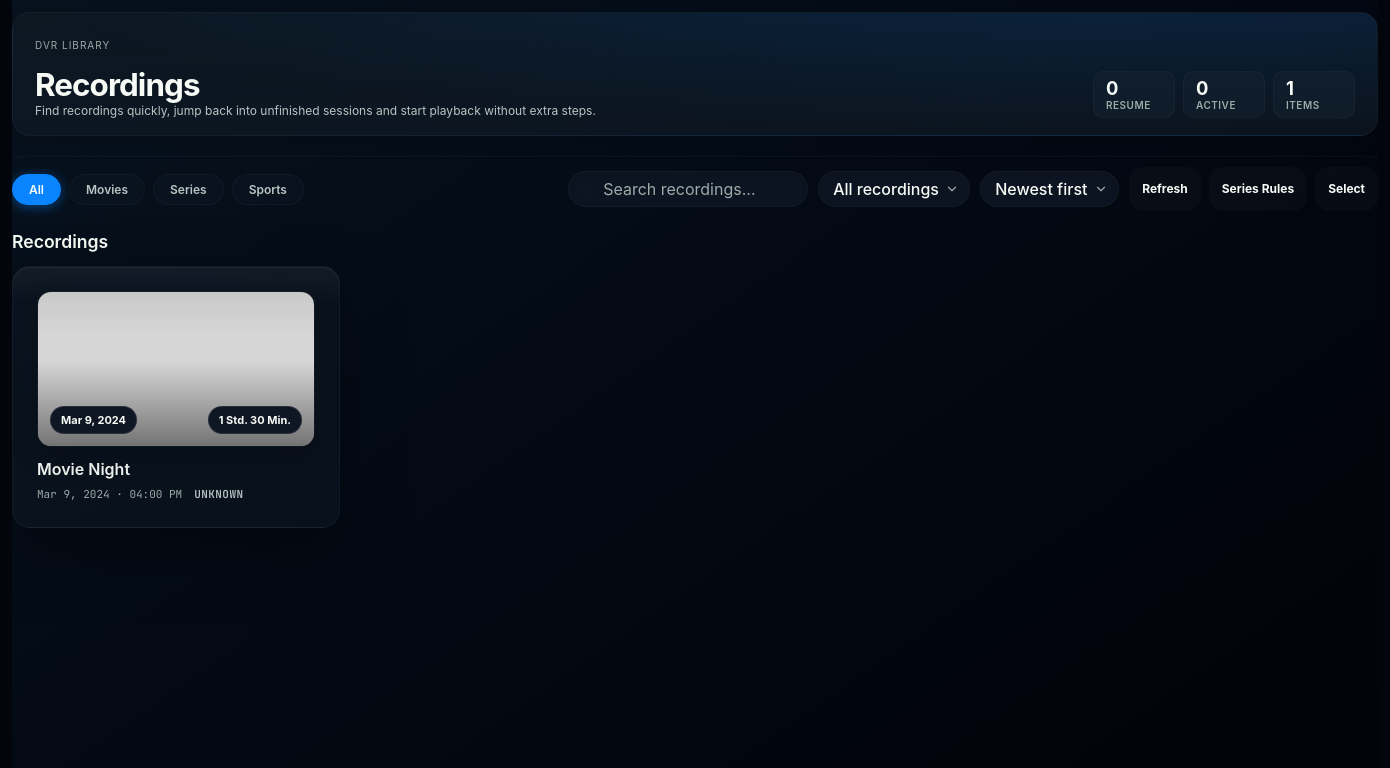
it: RecordingsList › bulk deletes selected recordings and refreshes the listing
The image size is (1390, 768).
Expected: the text "Movie Night" is shown, [37,460,130,480]
Click the button titled "Selection Mode": x=1347, y=189 [1315,167,1378,211]
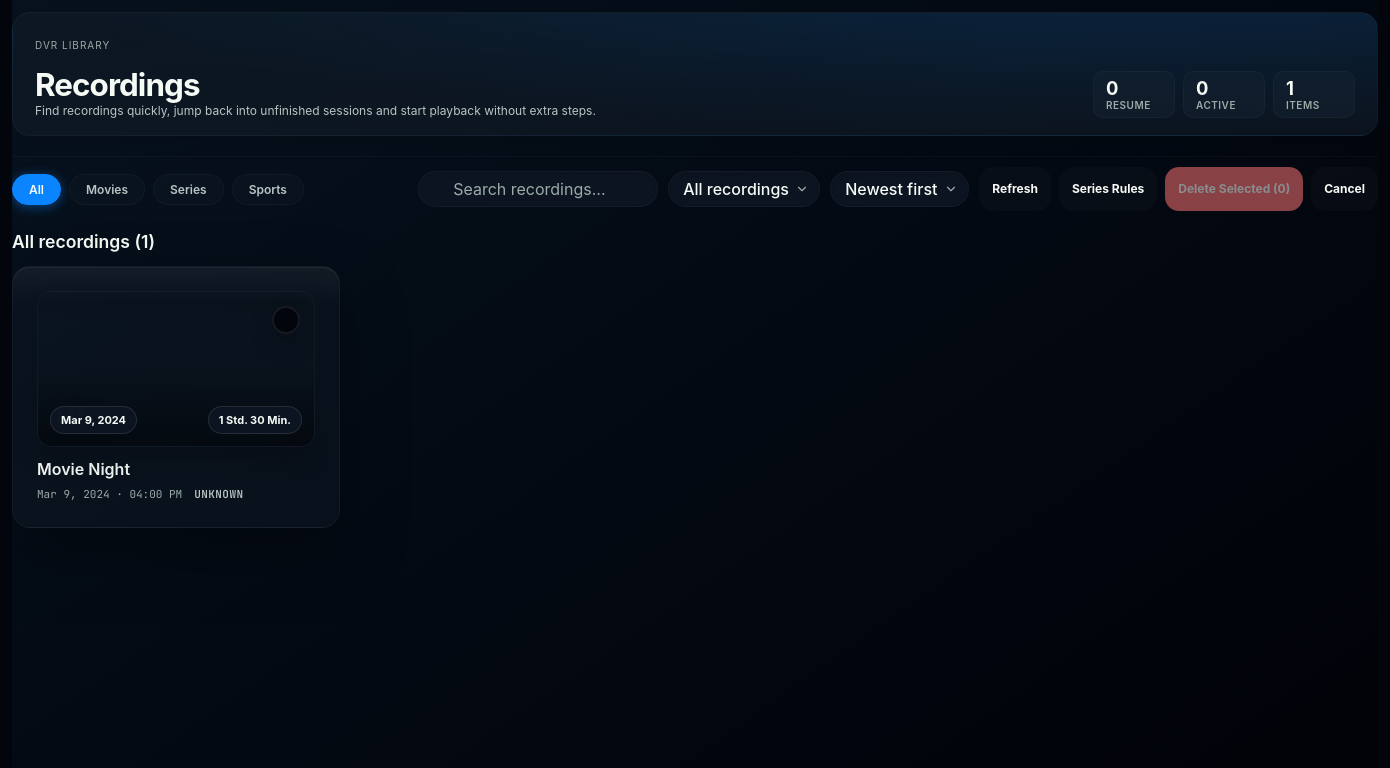
Click the text "Movie Night": x=84, y=470 [37,460,130,480]
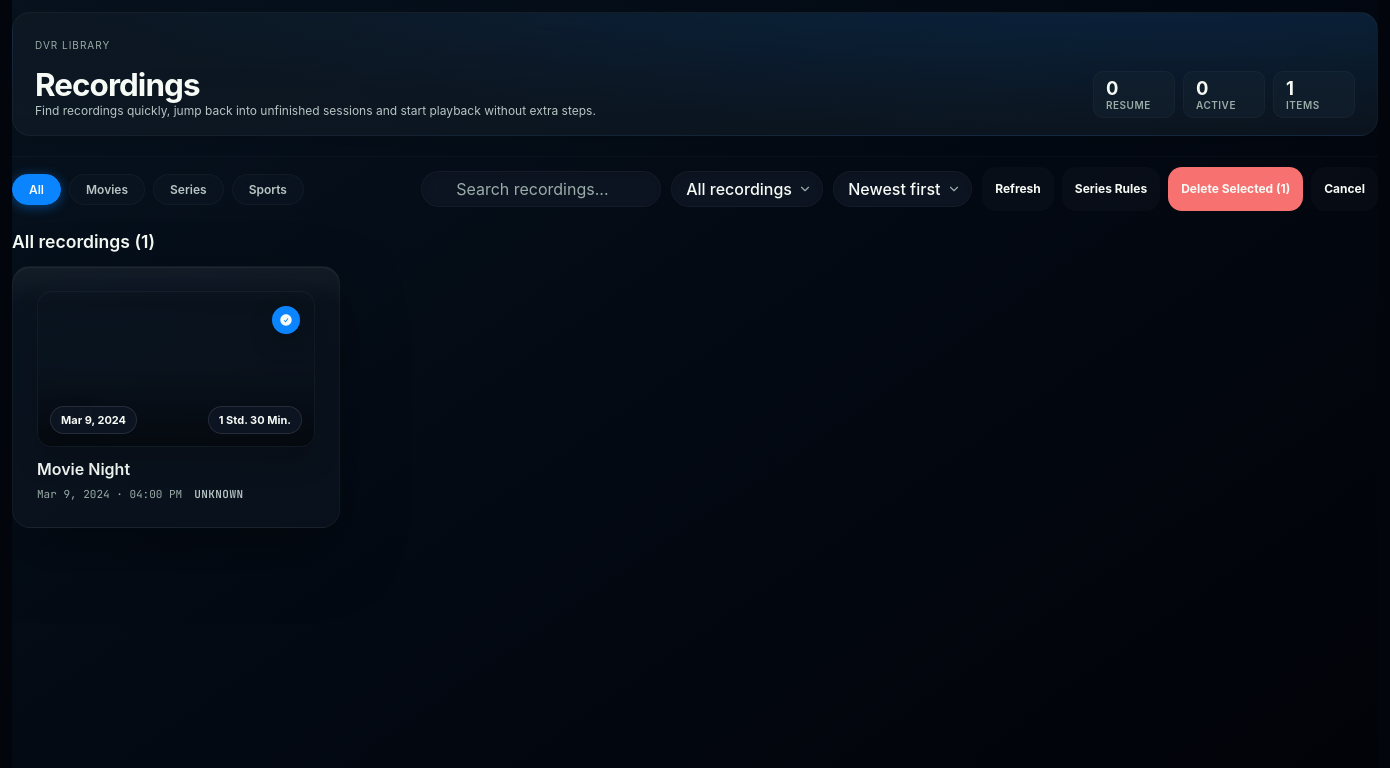
Click the button "Delete Selected (1)": x=1236, y=189 [1168,167,1303,211]
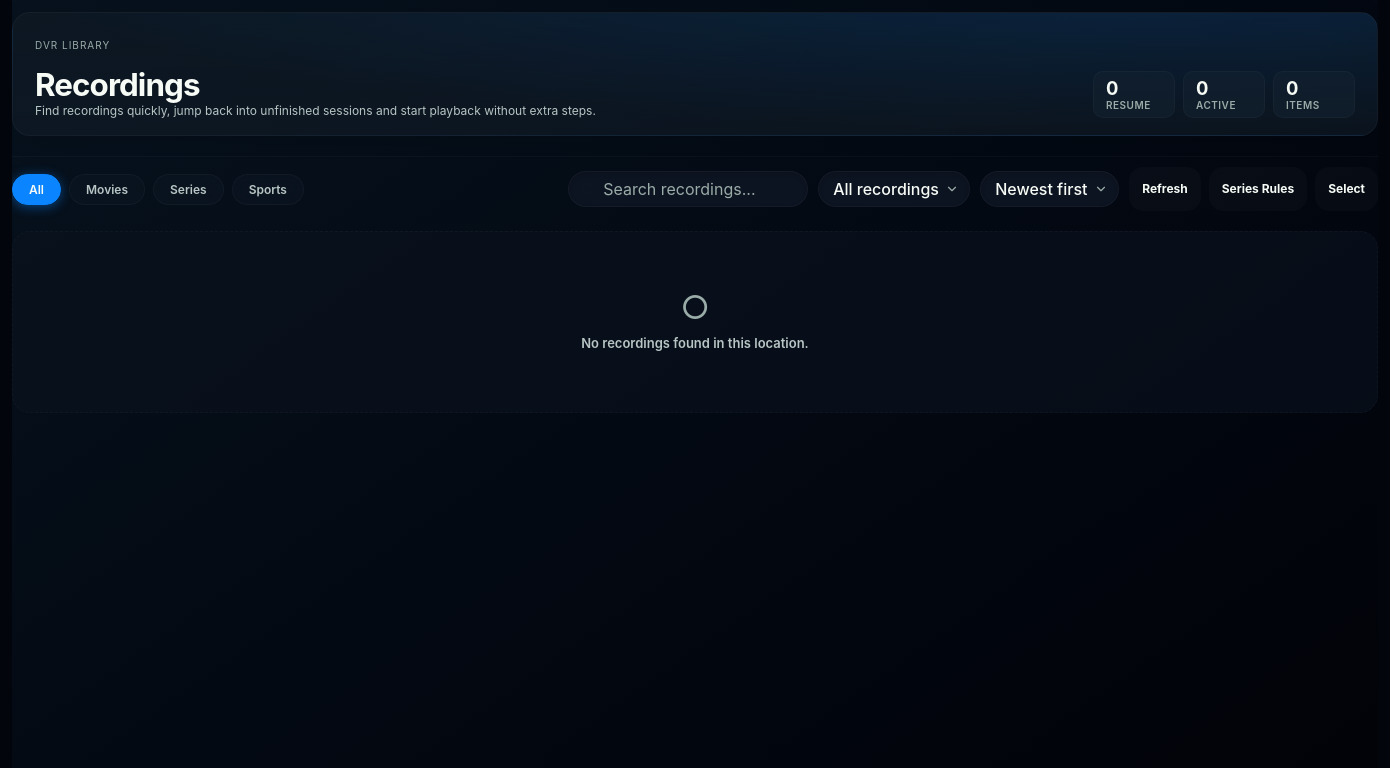
Now the button "Movie Night" is gone
